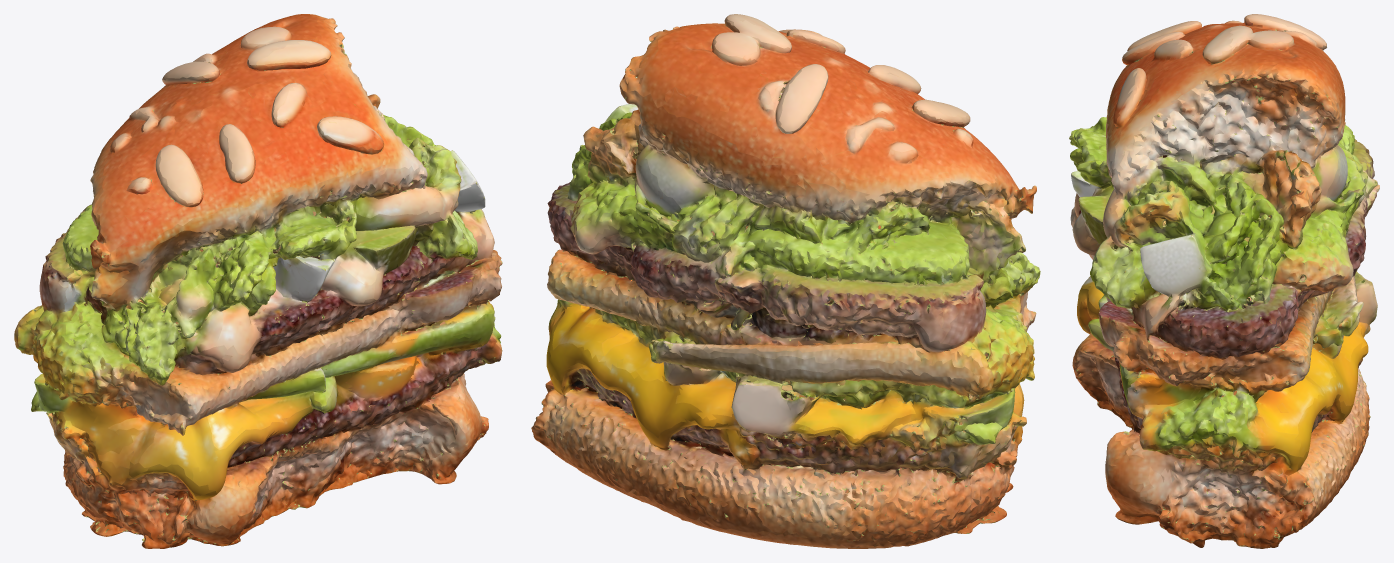
3 renders of one model, left to right at view 1: azimuth 30°, elevation 25°; view 2: azimuth 150°, elevation 25°; view 3: azimuth 270°, elevation 25°, orthographic. The views are drawn at different scales.
Parts seen in each view (by area): view 1: geometry_0; view 2: geometry_0; view 3: geometry_0.
Part boxes in pixels (<box>): geometry_0: <box>14,14,502,548</box>; geometry_0: <box>531,14,1040,548</box>; geometry_0: <box>1069,14,1379,548</box>.
Size of the model in its own units: 0.1343 by 0.13 by 0.0821.
Materials: 1 (1 with a texture image).
